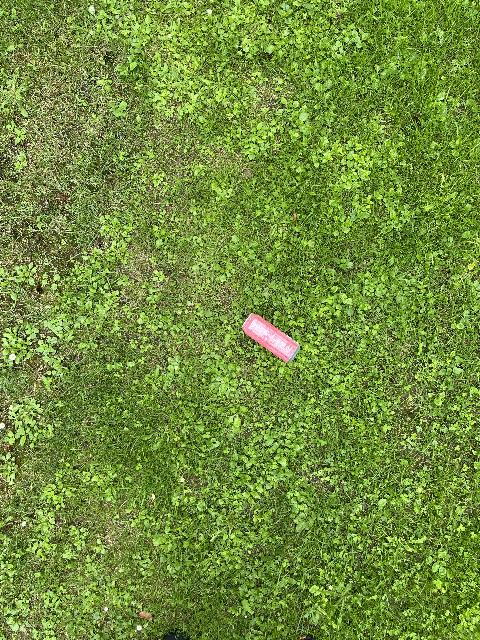can: (238, 309, 302, 368)
